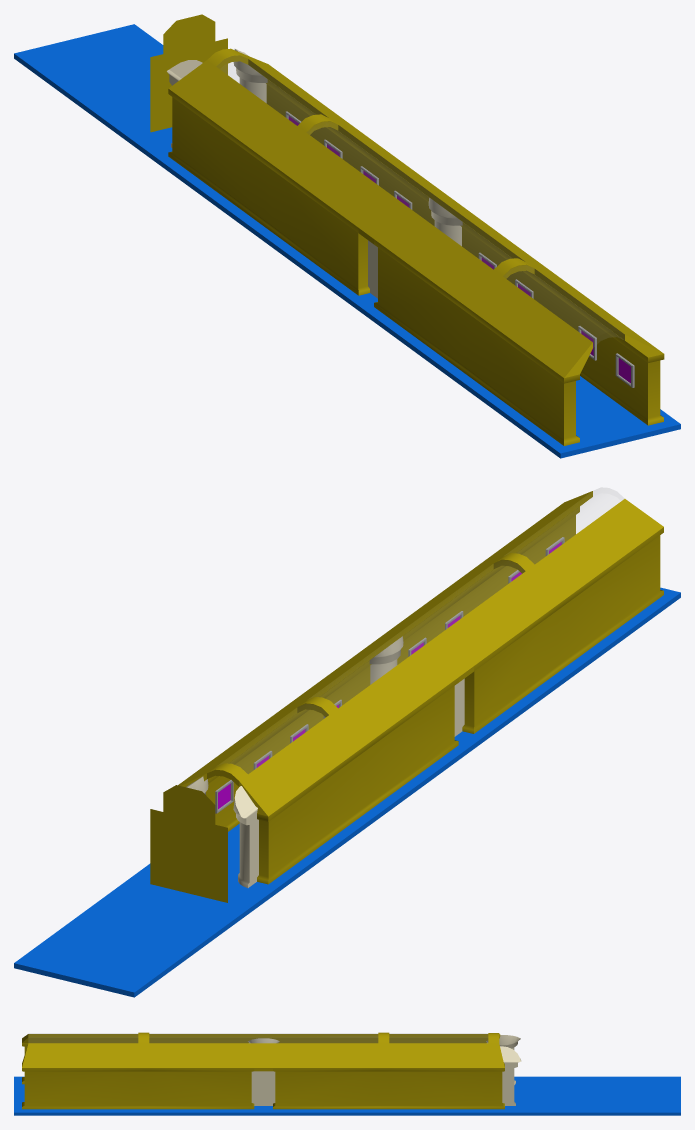
The model's file is taitorukari.fbx.
3 renders of one model, top to bottom at view 1: azimuth 30°, elevation 25°; view 2: azimuth 150°, elevation 25°; view 3: azimuth 270°, elevation 25°, orthographic. The views are drawn at different scales.
Visible parts, largest first — view 1: tatemono, pCube3, uegarasu, oku, pCylinder1, pCylinder6; view 2: tatemono, pCube3, uegarasu, oku, pCylinder7, pCylinder1; view 3: tatemono, pCube3, uegarasu, pCylinder1, pCylinder6, pCylinder7.
Boxes of the visible parts, x1,y1,x2,y2 form: tatemono: (168, 48, 664, 445); pCube3: (14, 24, 680, 458); uegarasu: (221, 61, 621, 347); oku: (150, 14, 227, 132); pCylinder1: (428, 197, 462, 246); pCylinder6: (233, 49, 267, 103); tatemono: (178, 491, 663, 884); pCube3: (14, 587, 680, 997); uegarasu: (230, 488, 623, 773); oku: (150, 785, 227, 902); pCylinder7: (233, 786, 258, 887); pCylinder1: (369, 636, 403, 684); tatemono: (22, 1032, 504, 1109); pCube3: (14, 1076, 680, 1115); uegarasu: (28, 1033, 487, 1042); pCylinder1: (251, 1071, 275, 1105); pCylinder6: (500, 1046, 521, 1105); pCylinder7: (486, 1035, 520, 1084).
Bounding box in the file's own units: 76.4 × 66.99 × 600.
